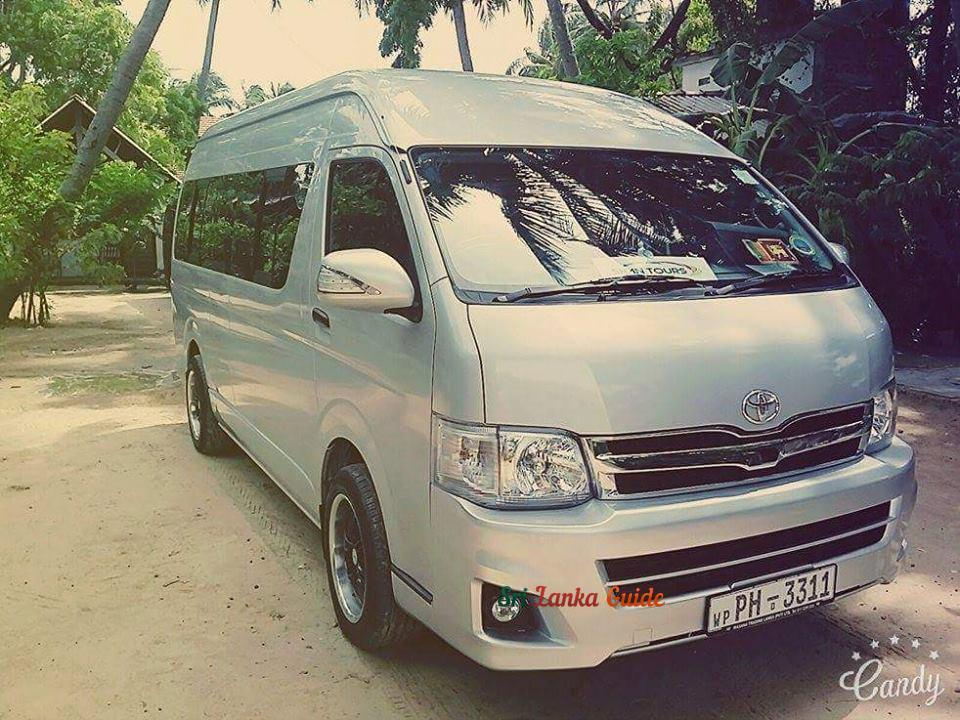van: (168, 69, 917, 670)
